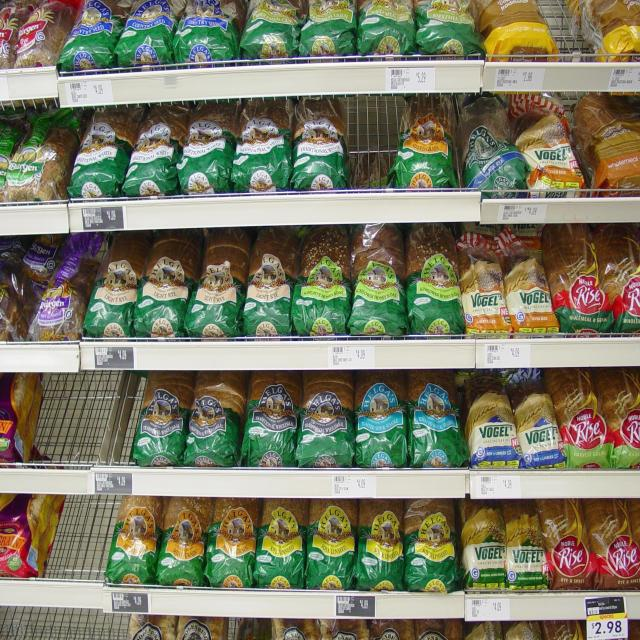empty_space: (45, 371, 97, 461), (60, 500, 108, 585), (344, 108, 388, 188), (553, 5, 573, 59)
